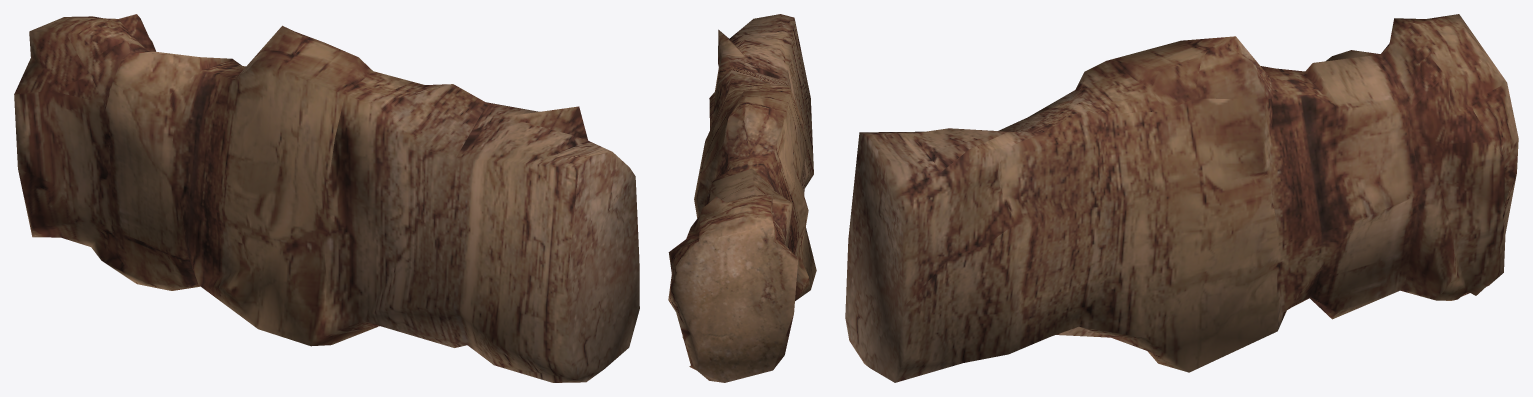
The model's file is Mesh_Cliff_Fin_02_AT.fbx.
3 views of the same model, side by side, from view 1: azimuth 30°, elevation 25°; view 2: azimuth 150°, elevation 25°; view 3: azimuth 270°, elevation 25° (orthographic). The views are drawn at different scales.
Visible parts, largest first — view 1: Mesh_Cliff_Fin_02_AT; view 2: Mesh_Cliff_Fin_02_AT; view 3: Mesh_Cliff_Fin_02_AT.
Boxes of the visible parts, bbox=[...] form: Mesh_Cliff_Fin_02_AT: bbox=[14, 14, 639, 382]; Mesh_Cliff_Fin_02_AT: bbox=[668, 14, 816, 382]; Mesh_Cliff_Fin_02_AT: bbox=[845, 14, 1518, 382].
Size of the model in its own units: 6499 by 4864 by 9956.
